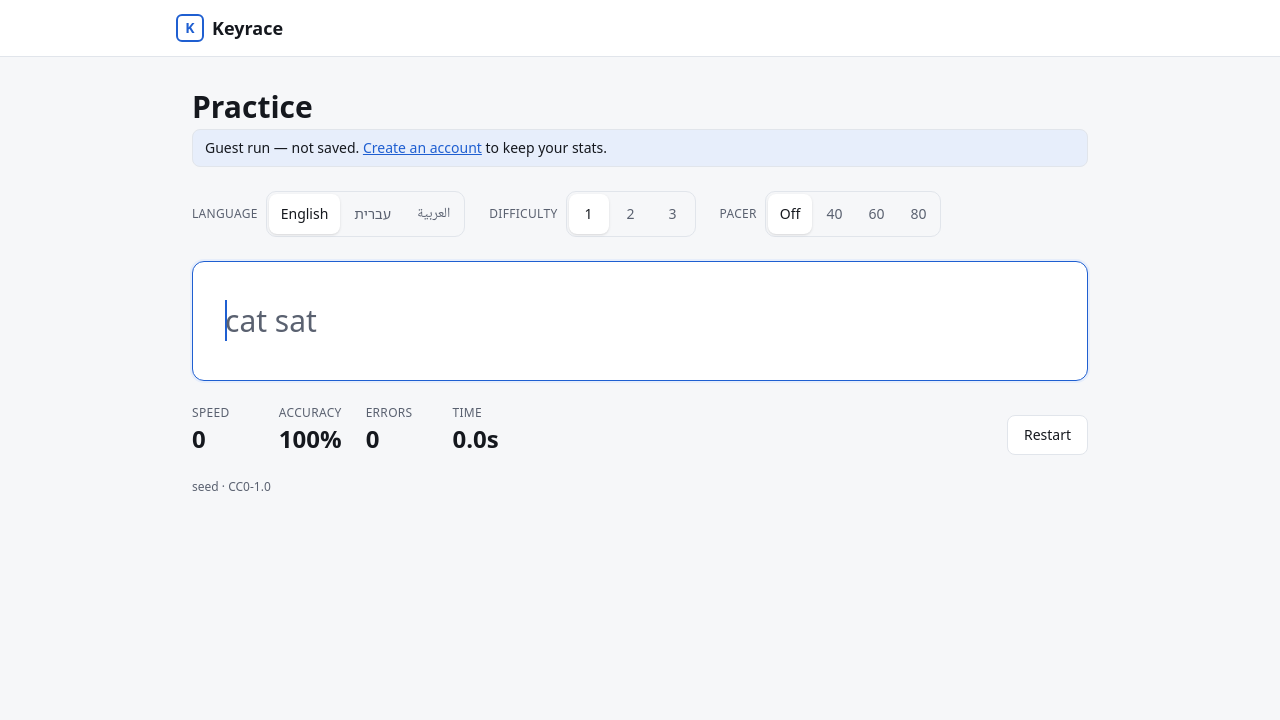
it: guest practice › a guest can race the pacer too, and their own row reads "You"
expect the element named "Type the text above" is shown: met, box x1=192 y1=261 x2=1088 y2=381
What coordinates should you click on to do the following:
click the button "40"
I would click on:
 (834, 214)
Its box is x1=814 y1=194 x2=854 y2=234.
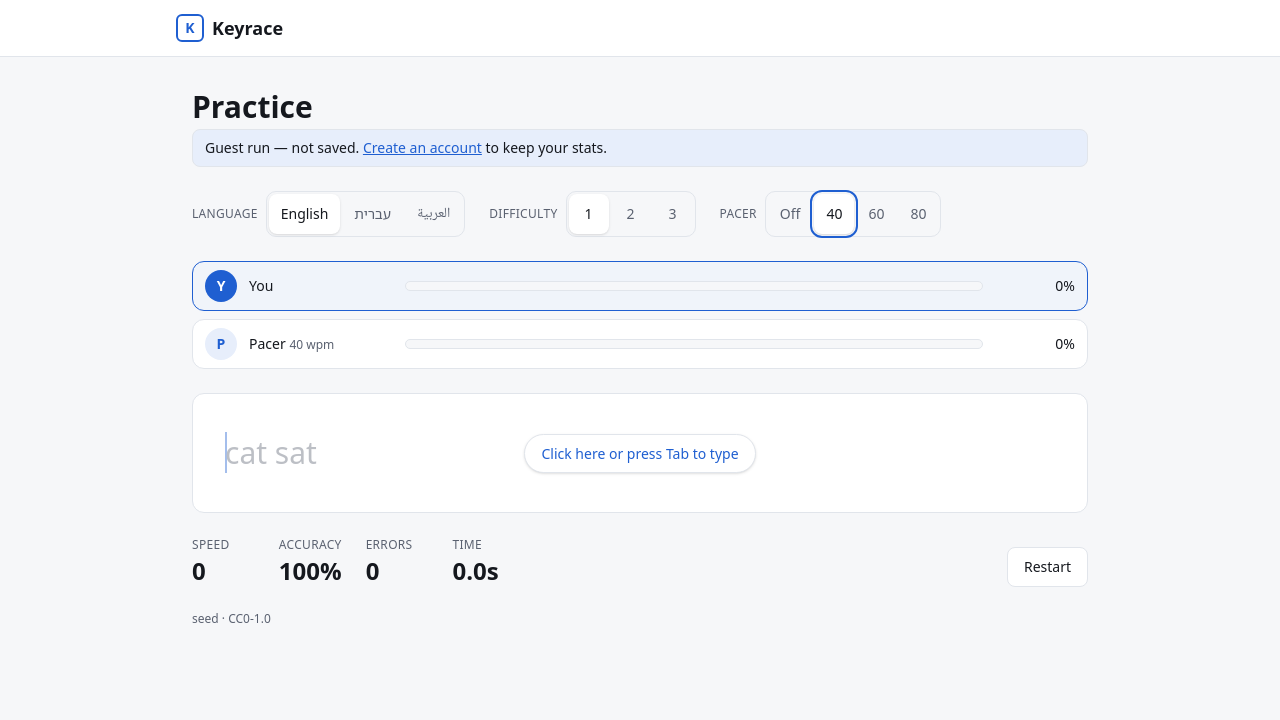
expect the list item with test id "pace-you" shows "You": met, box x1=249 y1=276 x2=273 y2=295
expect the list item with test id "pace-pacer" shows "Pacer 40 wpm": met, box x1=192 y1=319 x2=1088 y2=369
